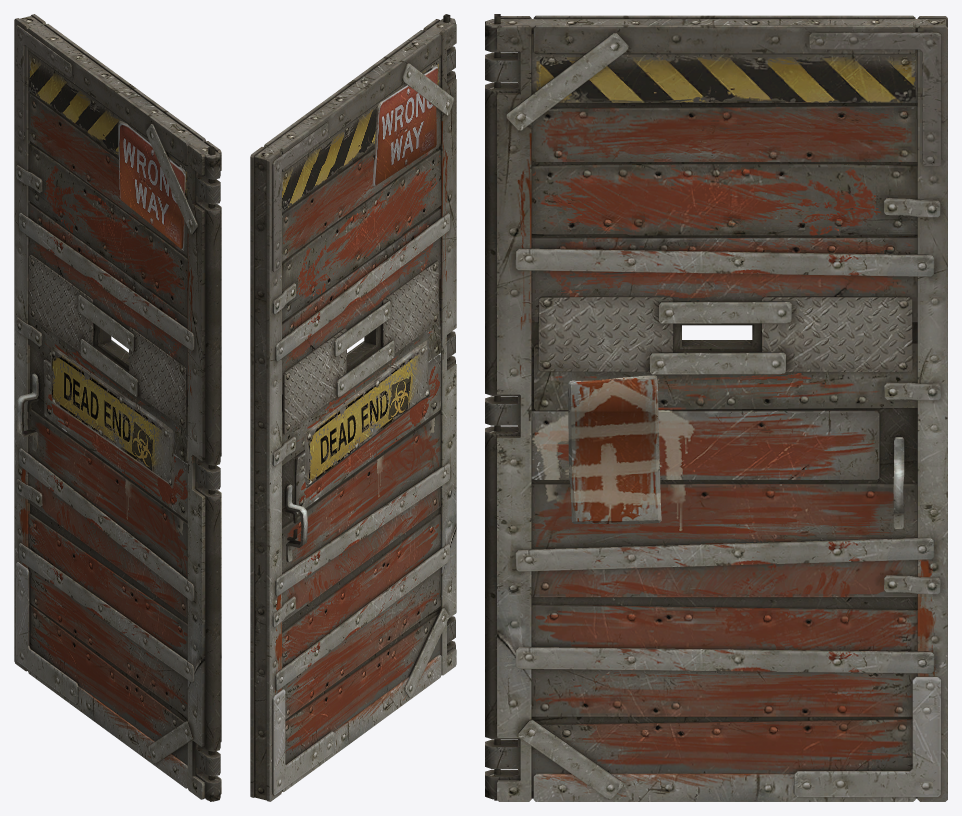
File: checkpoint_door_-02_static.glb
3 views of the same model, side by side, from view 1: azimuth 30°, elevation 25°; view 2: azimuth 150°, elevation 25°; view 3: azimuth 270°, elevation 25° (orthographic). The views are drawn at different scales.
Parts seen in each view (by area): view 1: checkpoint_door_-02_static; view 2: checkpoint_door_-02_static; view 3: checkpoint_door_-02_static.
Boxes of the visible parts, x1,y1,x2,y2 form: checkpoint_door_-02_static: (14,14,221,801); checkpoint_door_-02_static: (250,14,456,801); checkpoint_door_-02_static: (485,14,947,801).
Size of the model in its own units: 0.1635 by 2 by 1.07.
1 material, 1 textured.
